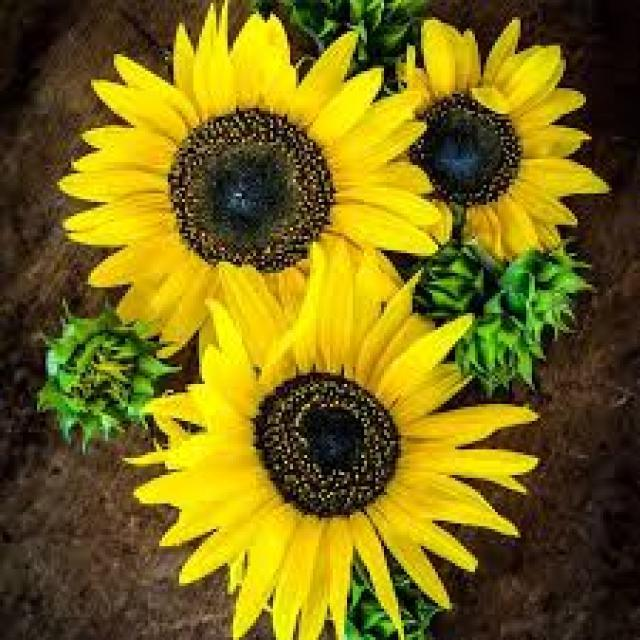sunflower: (122, 239, 540, 637), (55, 0, 439, 369), (381, 14, 609, 262)
